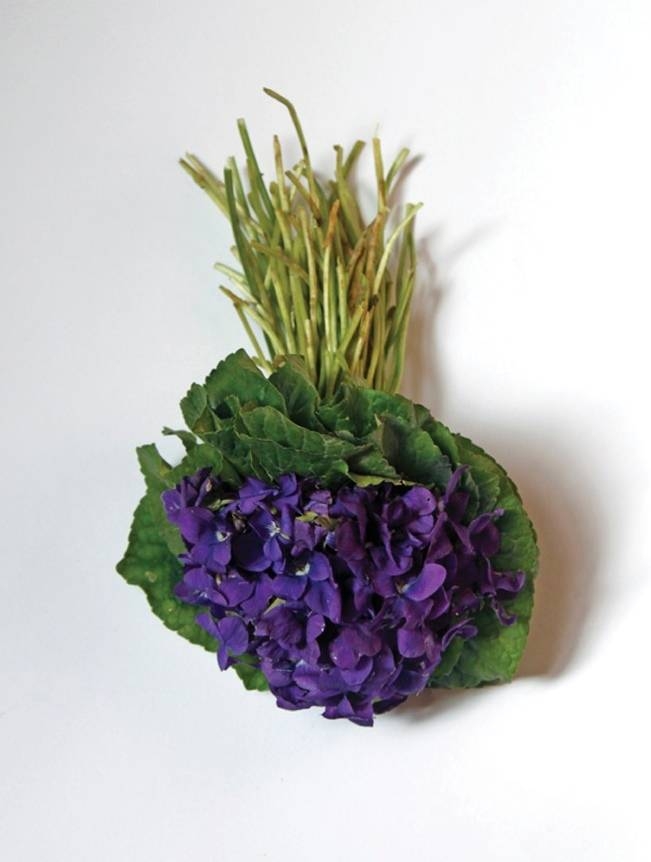violet: (162, 474, 511, 733)
